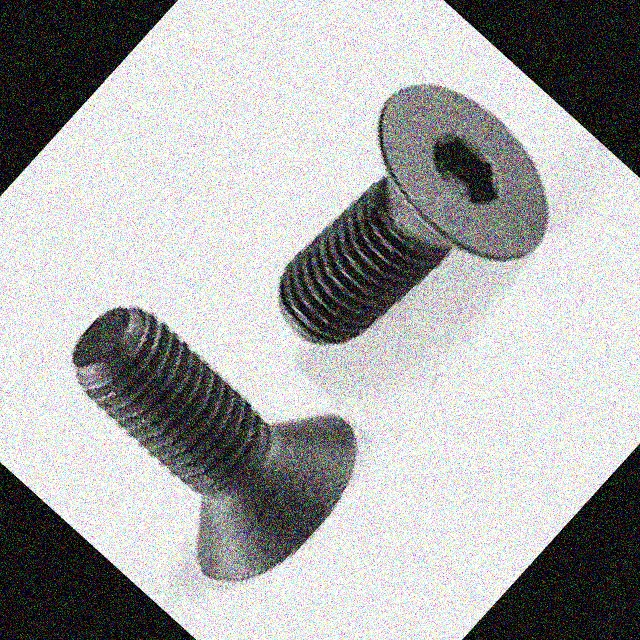allen: (343, 50, 585, 286)
